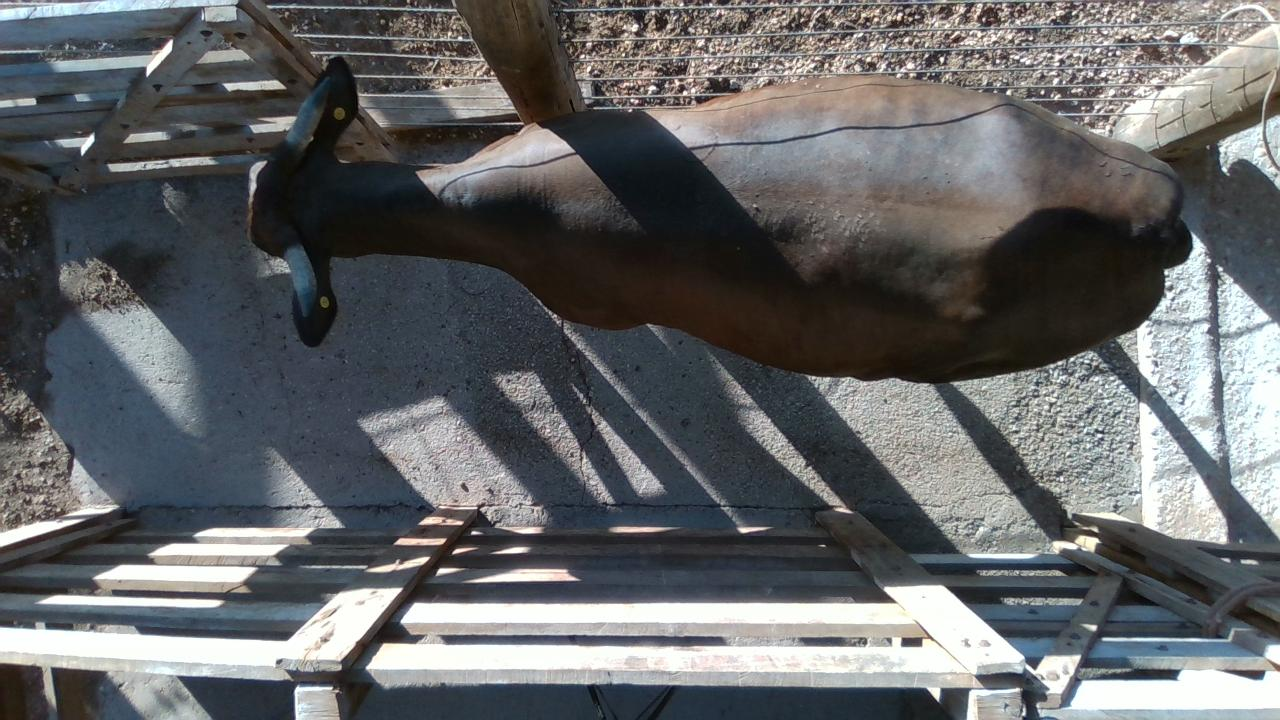cattle: (246, 55, 1193, 385)
